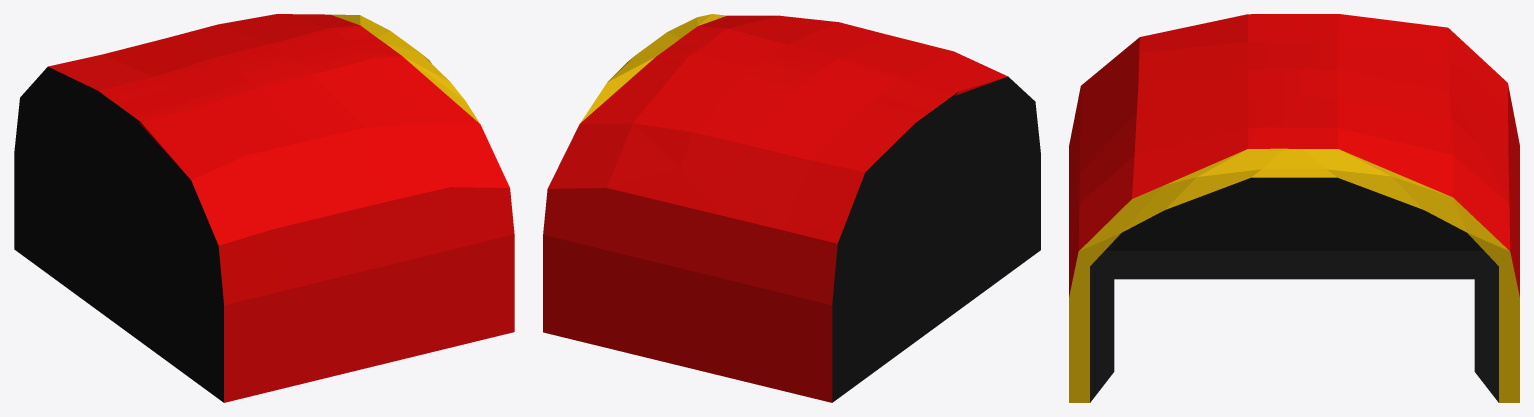
Rendered from C0.Cowl.1cRL.Export.glb.
3 views of the same model, side by side, from view 1: azimuth 30°, elevation 25°; view 2: azimuth 150°, elevation 25°; view 3: azimuth 270°, elevation 25° (orthographic). The views are drawn at different scales.
Visible parts, largest first — view 1: Cube.003; view 2: Cube.003; view 3: Cube.003.
Boxes of the visible parts, x1,y1,x2,y2 form: Cube.003: (14,14,514,402); Cube.003: (543,14,1040,402); Cube.003: (1069,14,1519,402).
Size of the model in its own units: 0.75 by 0.5612 by 0.9375.
